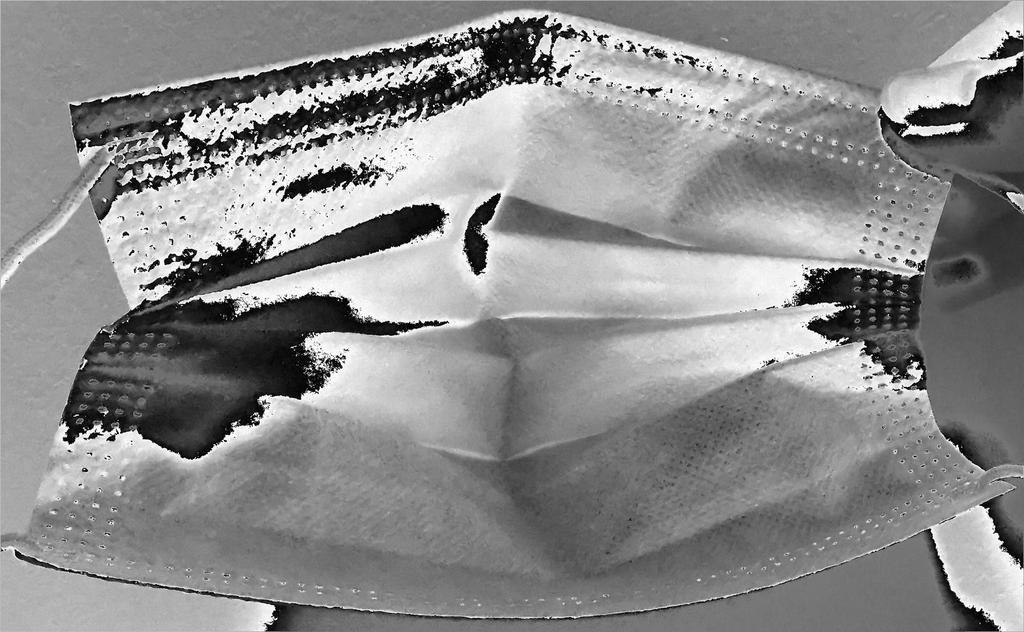High GSM: (145, 87, 856, 561)
